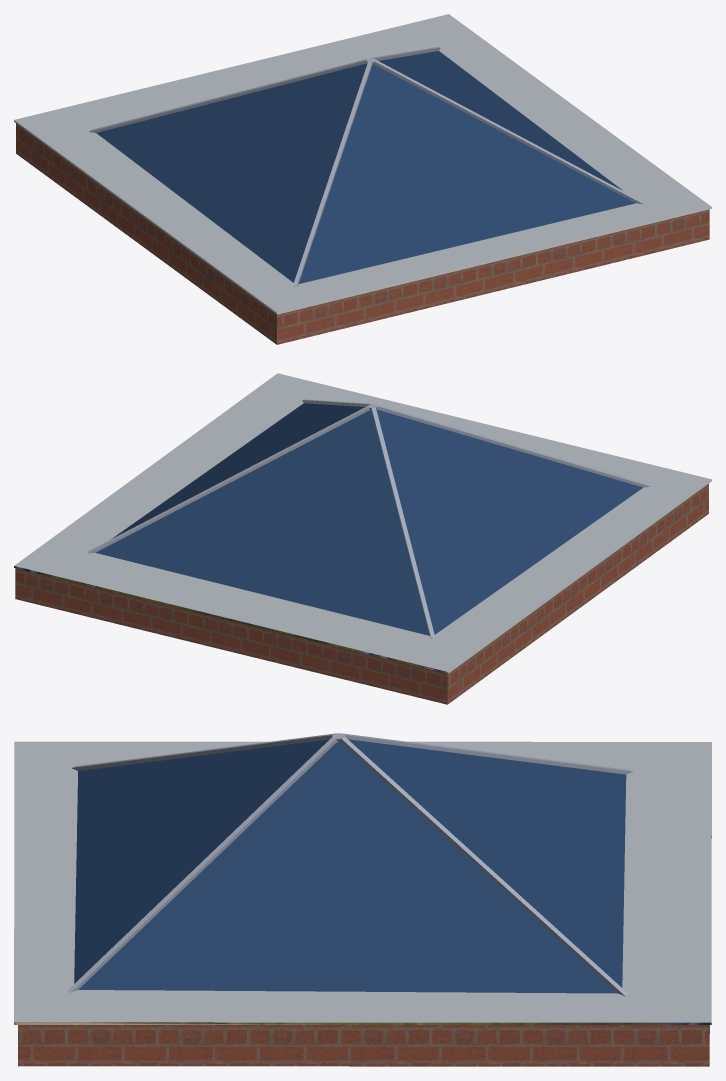
Rendered from piramit.fbx.
The picture shows the model from 3 angles, top to bottom: view 1: azimuth 30°, elevation 25°; view 2: azimuth 150°, elevation 25°; view 3: azimuth 270°, elevation 25°; orthographic projection. The views are drawn at different scales.
Visible parts, largest first — view 1: Pyramid; view 2: Pyramid; view 3: Pyramid.
Boxes of the visible parts, <box> form: Pyramid: <box>14,14,711,344</box>; Pyramid: <box>14,373,711,704</box>; Pyramid: <box>14,733,711,1066</box>.
Bounding box in the file's own units: 1161 × 366 × 1218.
Materials: 5 (2 with a texture image).
